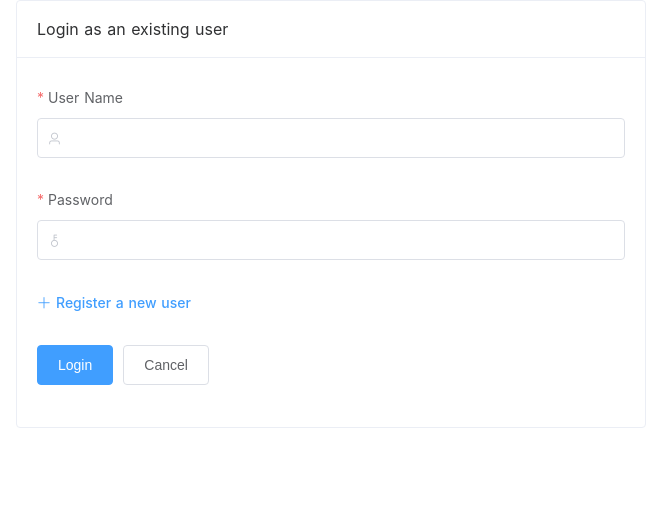
Test: Auth Login page › Auth Login Error › Login button works, exception error processed and displayed
This screenshot has width=663, height=523.
What coordinates should you click on to do the following:
click the button "Login"
I would click on:
 (75, 365)
Its box is [37,345,113,385].
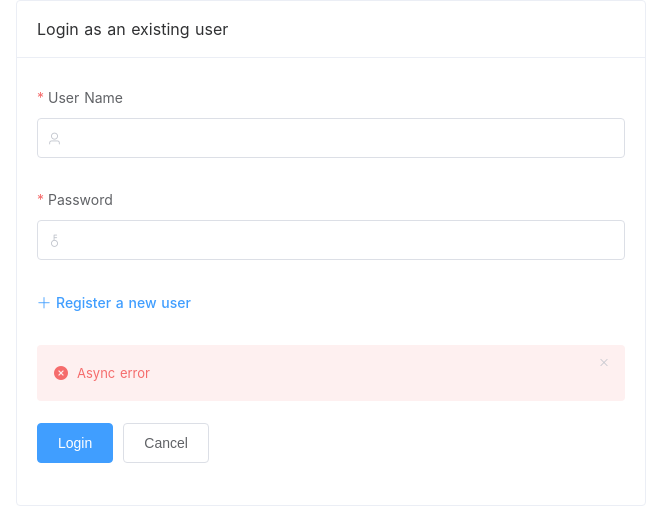
Expected: the text "Async error" is shown, [77,365,150,381]
